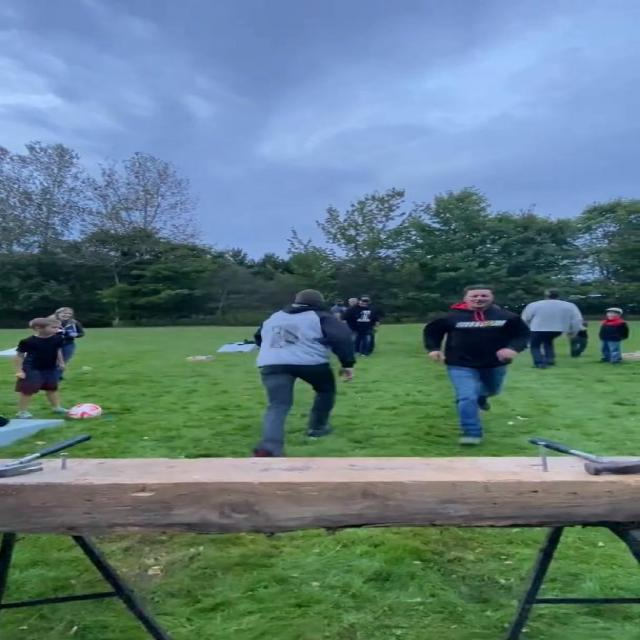hammer: (521, 434, 640, 479), (3, 434, 92, 477)
